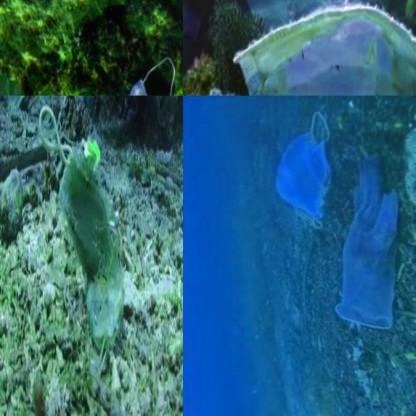Mask: (38, 105, 125, 378), (230, 0, 415, 95), (274, 110, 329, 230), (57, 57, 177, 95)
glove: (337, 146, 403, 327)
